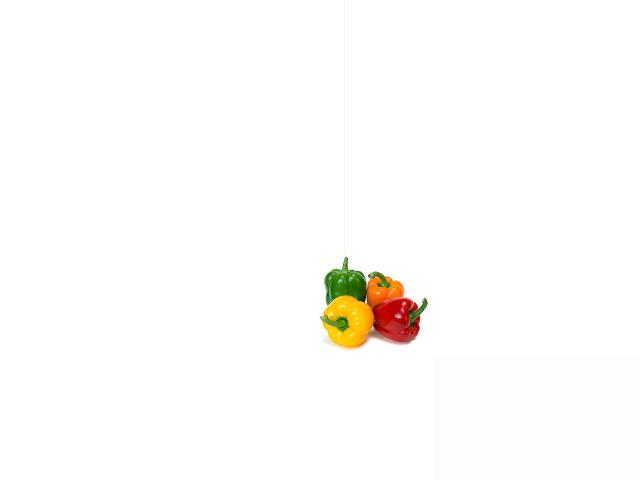bell_pepper: (317, 295, 375, 349)
